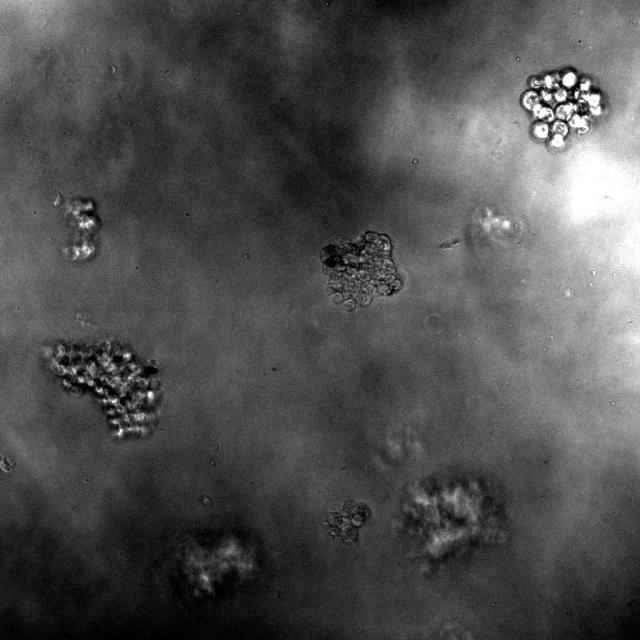organoid: (392, 476, 506, 577), (46, 341, 161, 440), (520, 66, 610, 150), (171, 529, 260, 606), (319, 231, 402, 310), (64, 198, 101, 260), (325, 500, 371, 542)
